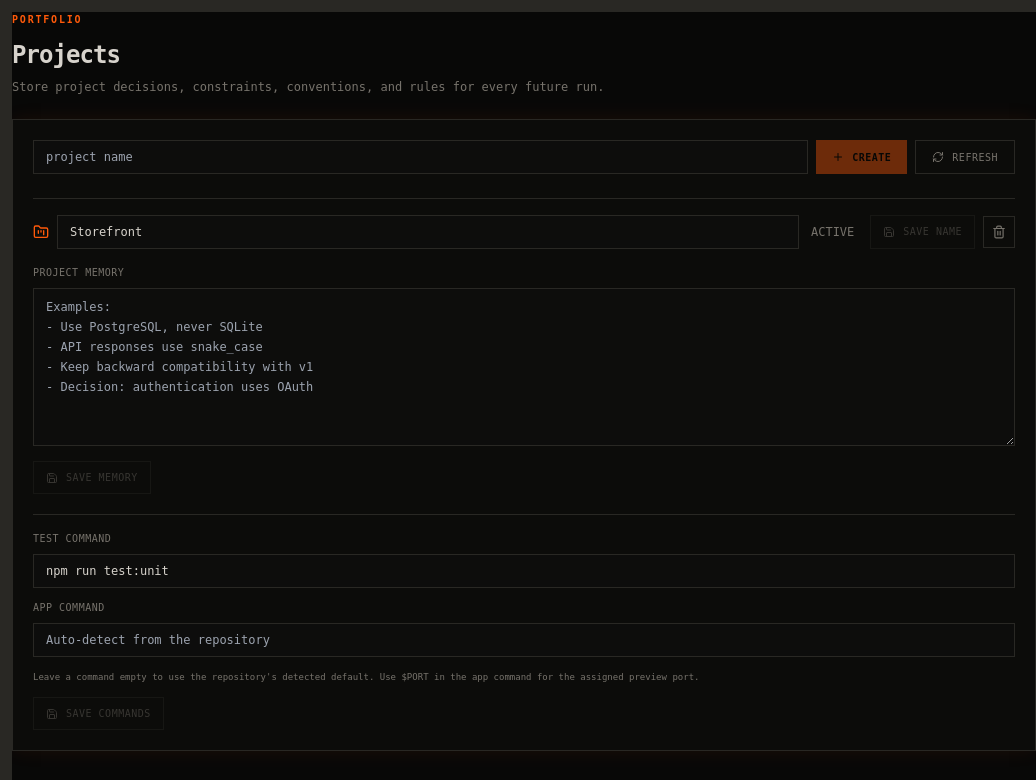
Test: ProjectsPage runtime commands › disables save buttons until a field has unsaved changes
The width and height of the screenshot is (1036, 780).
Expected: the button "Save memory" is disabled, [33,461,151,494]
Expected: the button "Save name" is disabled, [870,215,975,249]
Replace the text in the text box labelled "Project memory" with "- Use PostgreSQL". click: (524, 367)
box: [33,288,1015,446]
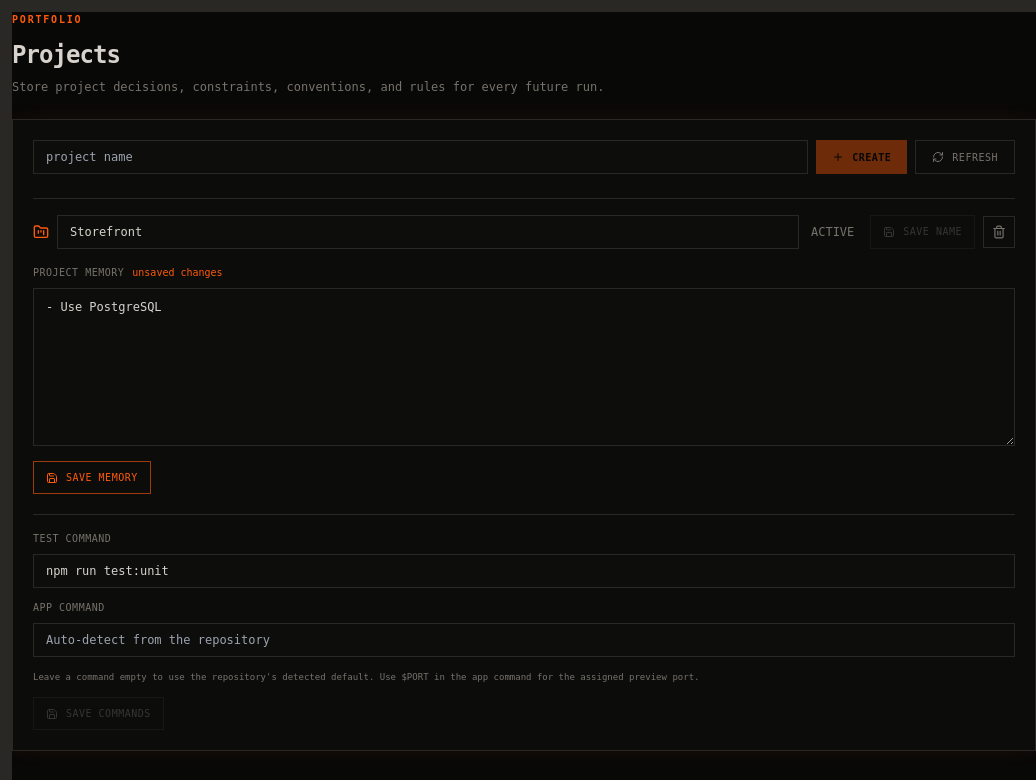
Result: the button "Save memory" is enabled at [33,461,151,494]
